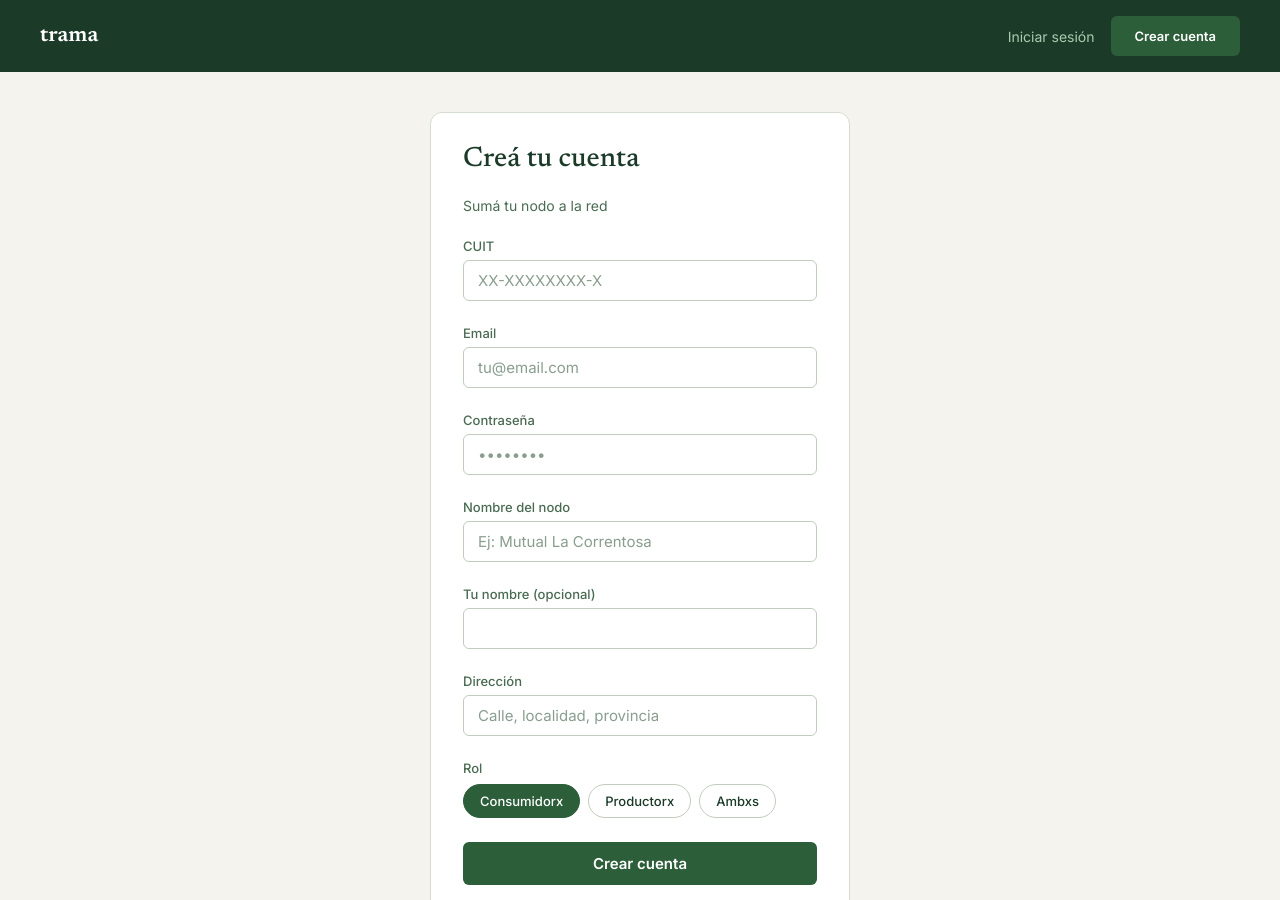
it: Signup › shows CUIT format error for incomplete CUIT
Step 1. Type "12345" into the field labelled "CUIT" → {"x": 640, "y": 280}, box top-left (463, 260), bottom-right (817, 301)
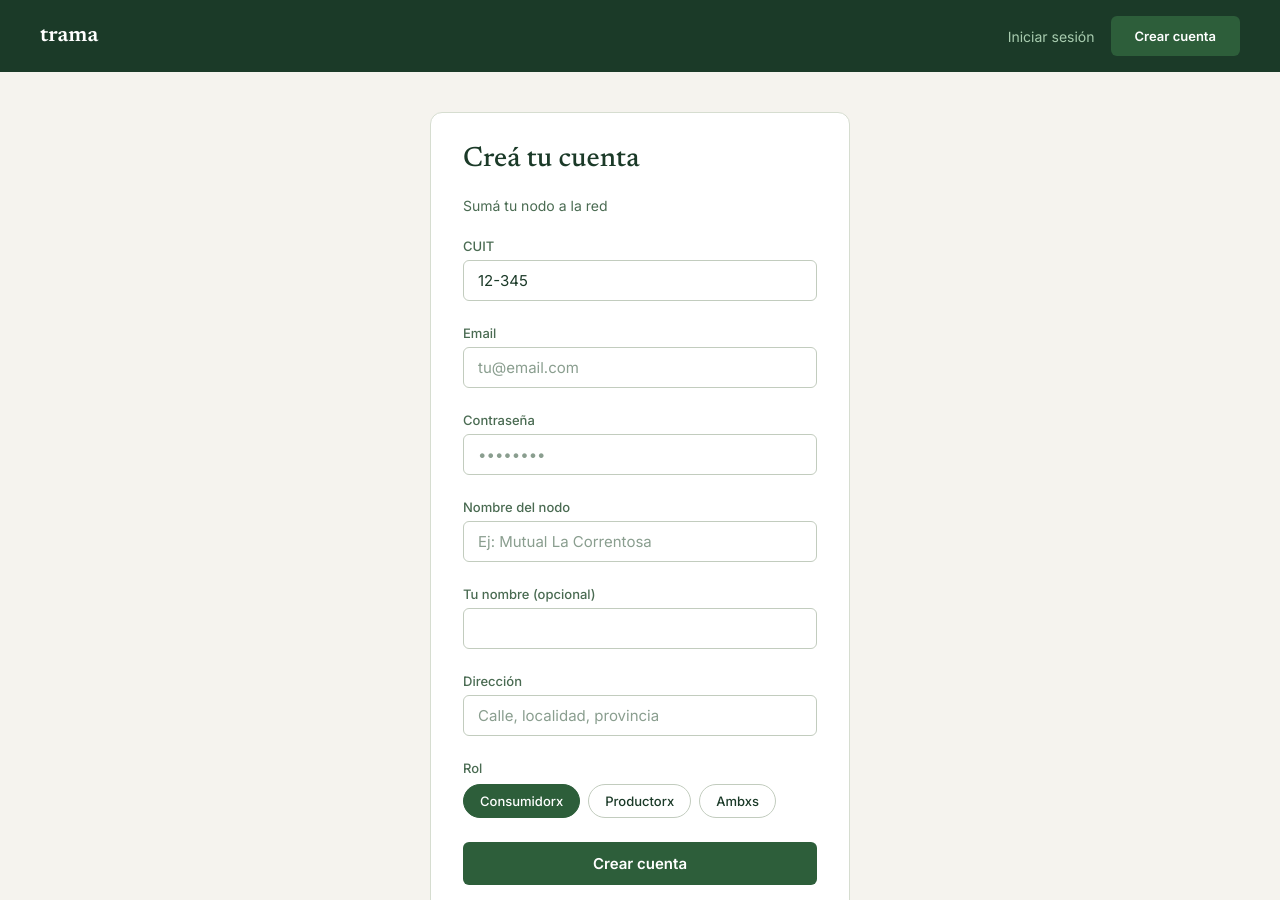
Step 2. Click the button "Crear cuenta" → {"x": 640, "y": 864}, box top-left (463, 842), bottom-right (817, 885)
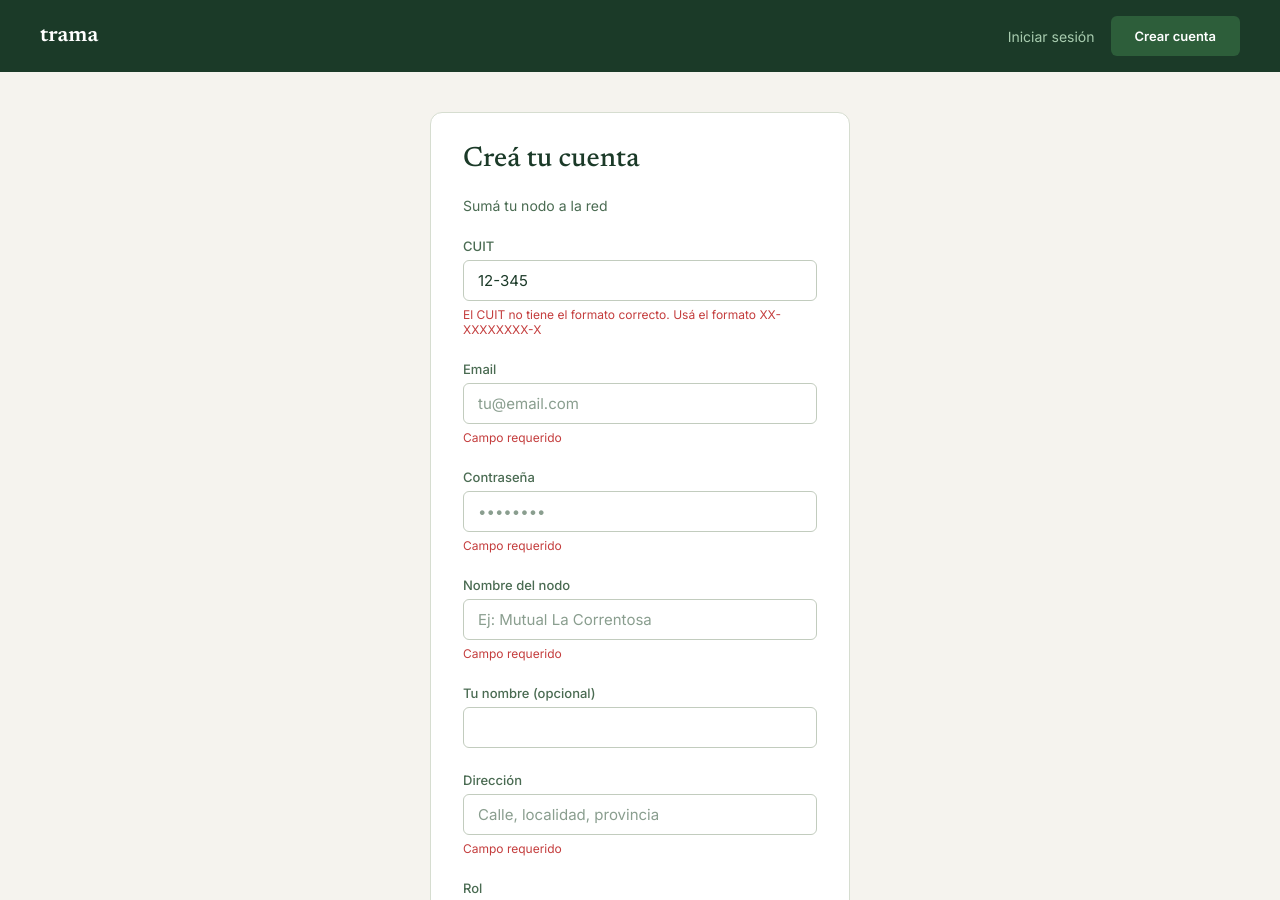
Check: the text "El CUIT no tiene el formato correcto. Usá el formato XX-XXXXXXXX-X" is shown, box top-left (463, 307), bottom-right (817, 337)
